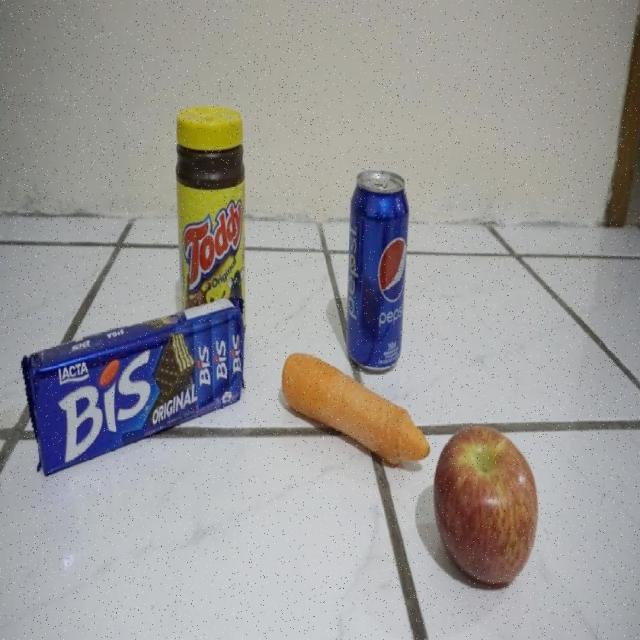Apple: (434, 422, 540, 582)
Carrot: (282, 354, 432, 484)
ChocolatePowder: (173, 107, 248, 290)
SodaCan: (345, 165, 409, 345)
